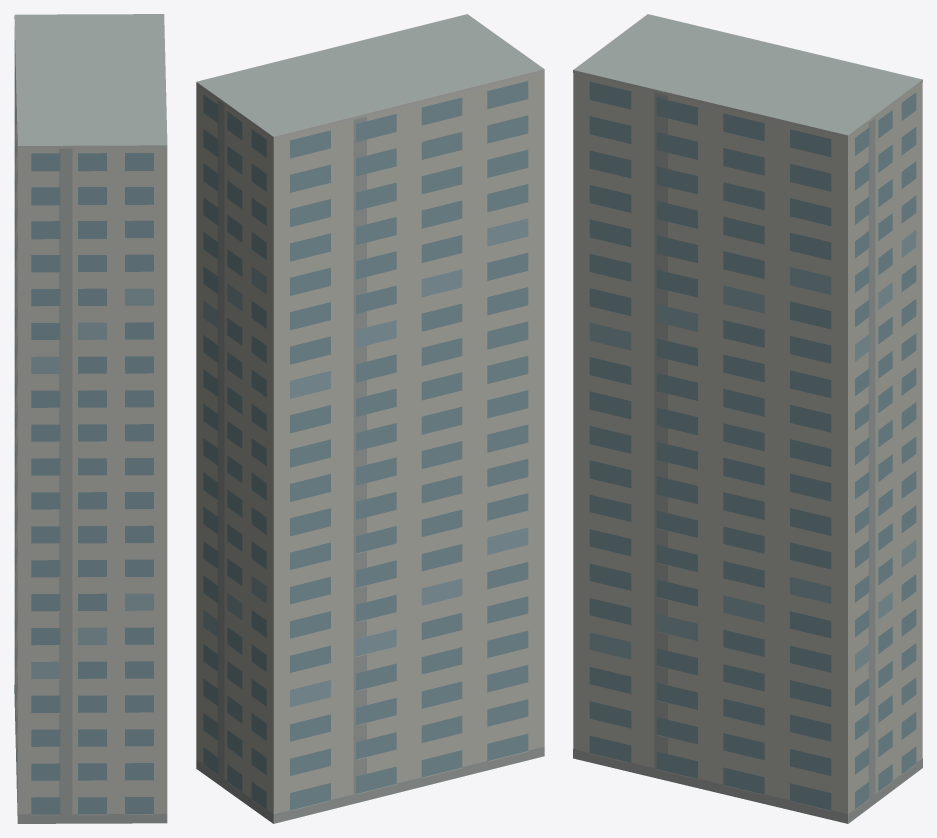
File: residential-822642d7-baa2-4e61-8188-ece47328245e.glb
3 renders of one model, left to right at view 1: azimuth 30°, elevation 25°; view 2: azimuth 150°, elevation 25°; view 3: azimuth 270°, elevation 25°, orthographic.
Visible parts, largest first — view 1: residential-822642d7-baa2-4e61-8188-ece47328245e.tmp; view 2: residential-822642d7-baa2-4e61-8188-ece47328245e.tmp; view 3: residential-822642d7-baa2-4e61-8188-ece47328245e.tmp.
Boxes of the visible parts, left/top/right/bottom form: residential-822642d7-baa2-4e61-8188-ece47328245e.tmp: left=14, top=14, right=167, bottom=823; residential-822642d7-baa2-4e61-8188-ece47328245e.tmp: left=196, top=14, right=544, bottom=823; residential-822642d7-baa2-4e61-8188-ece47328245e.tmp: left=573, top=14, right=922, bottom=823.
Bounding box in the file's own units: 21.95 × 58 × 26.7.
